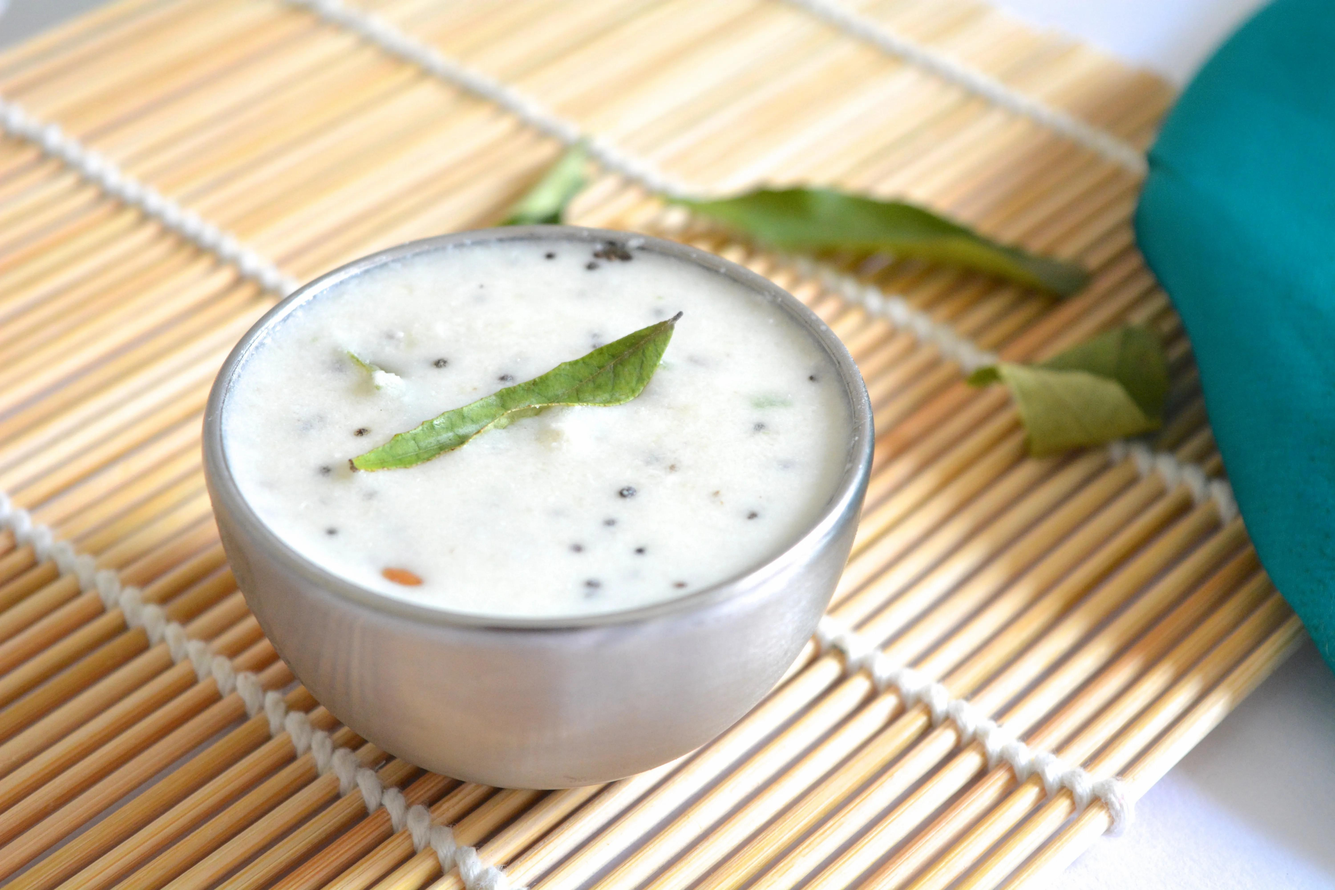CoconutChutney: (221, 241, 843, 611)
